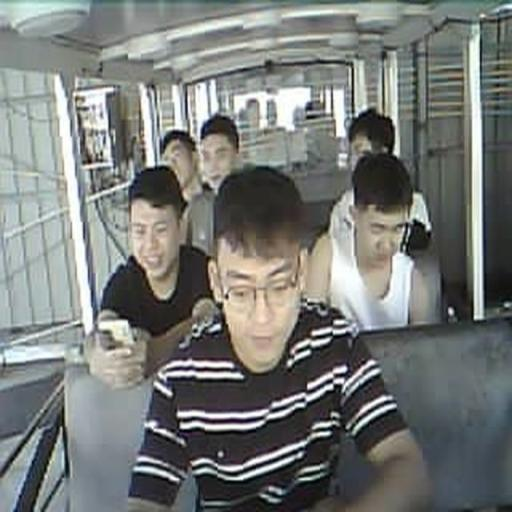persona: (126, 164, 433, 511), (94, 165, 220, 381), (303, 151, 445, 331), (327, 109, 432, 248), (178, 113, 240, 260), (161, 131, 203, 205)
